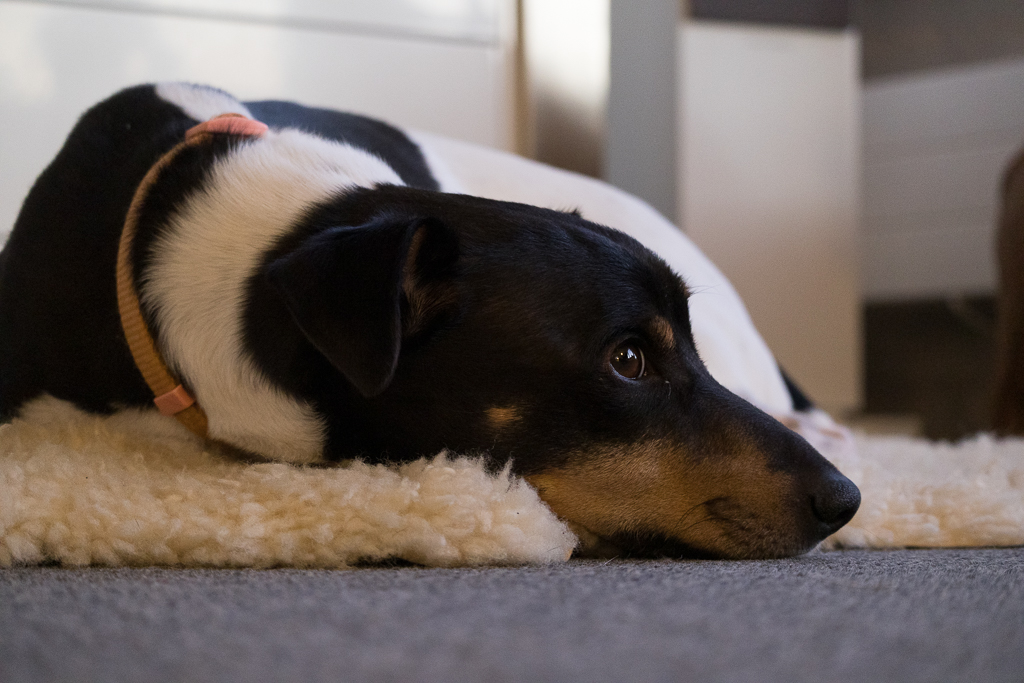Cattle: (975, 131, 1024, 452)
Dog: (0, 69, 876, 574)
